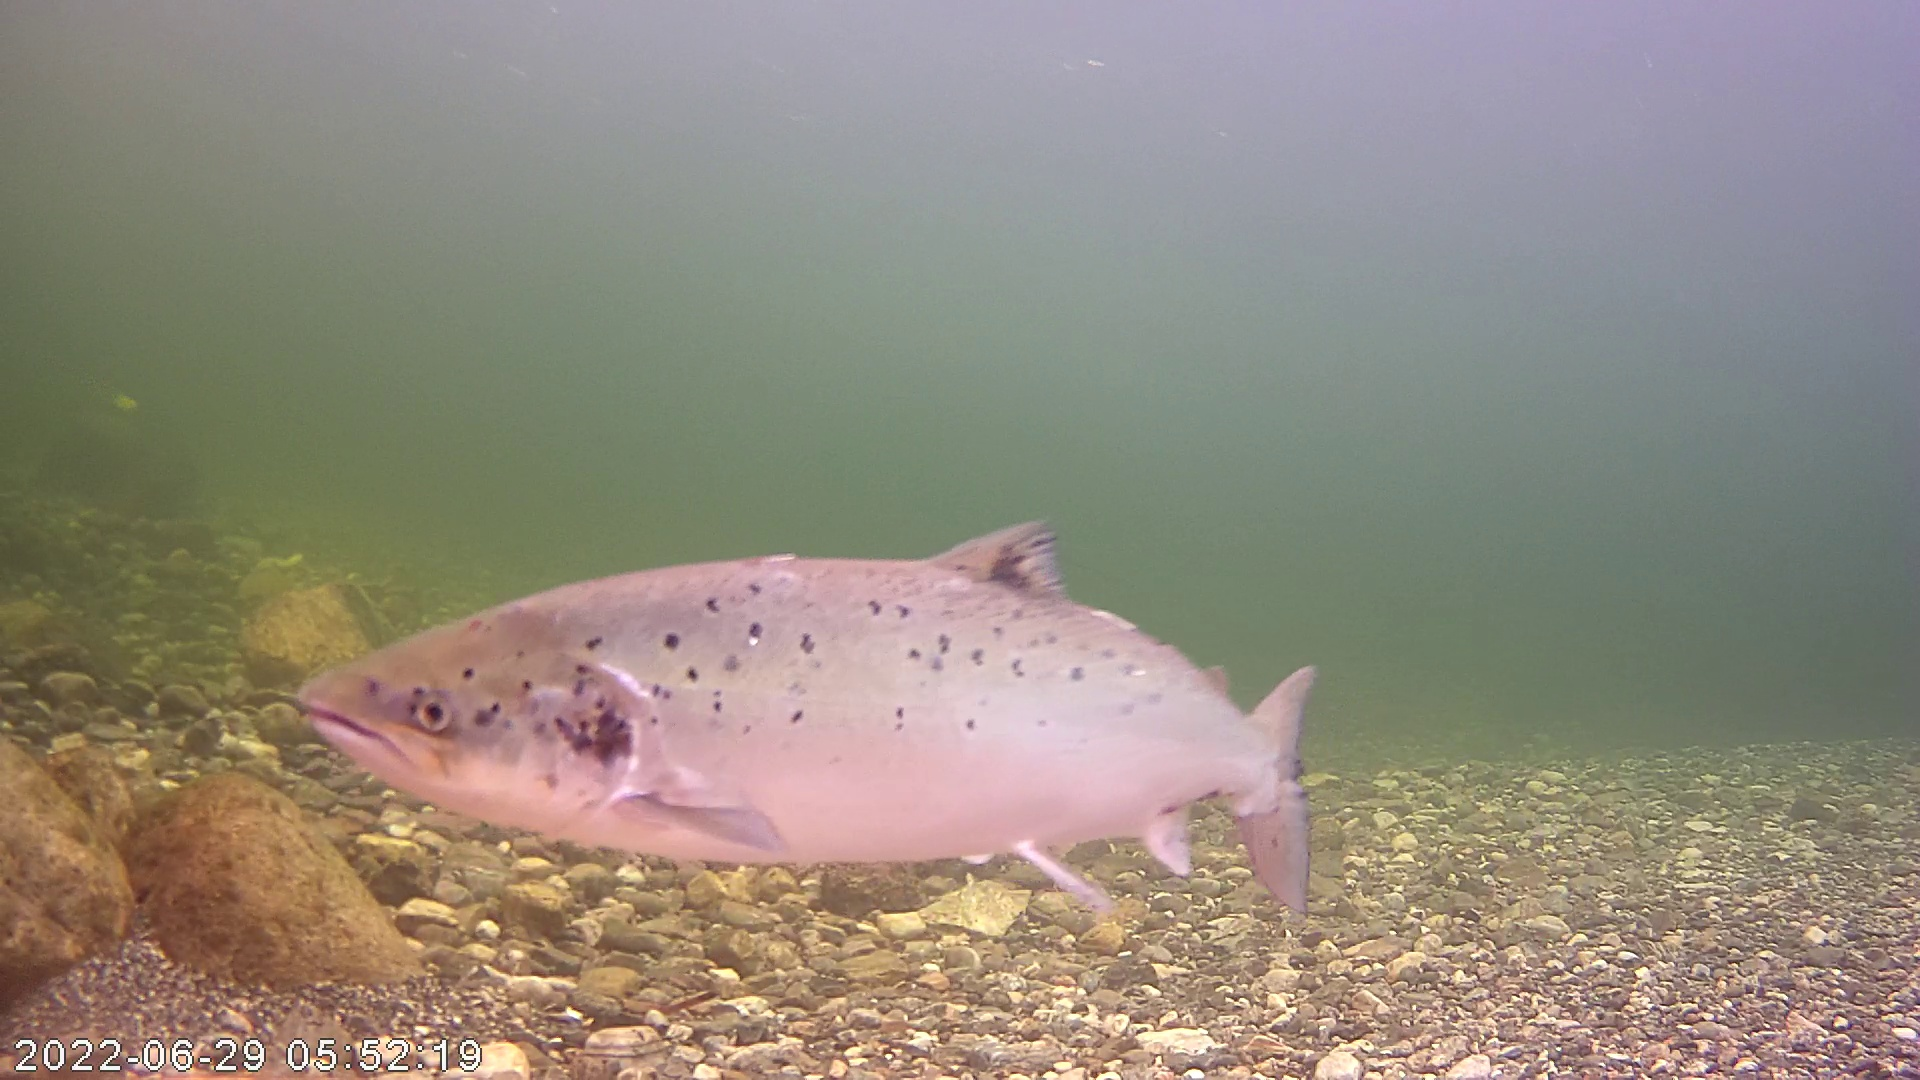salmon: (293, 422, 1324, 899)
